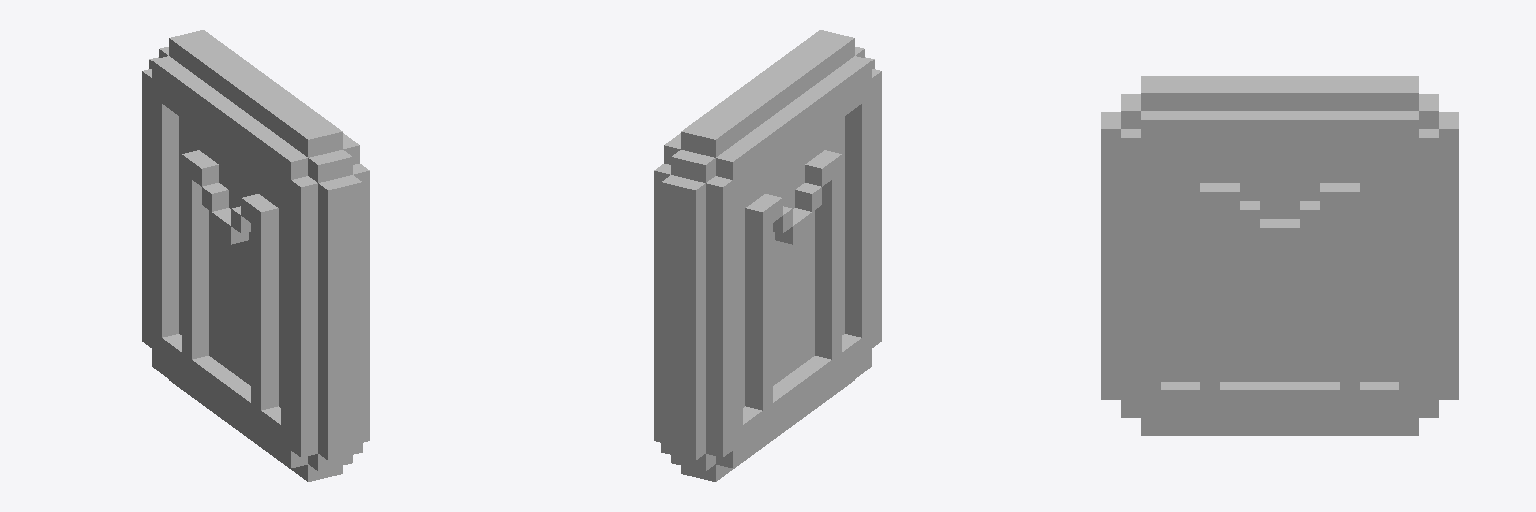
File: Coin 1.obj
3 views of the same model, side by side, from view 1: azimuth 30°, elevation 25°; view 2: azimuth 150°, elevation 25°; view 3: azimuth 270°, elevation 25° (orthographic).
Visible parts, largest first — view 1: object 1; view 2: object 1; view 3: object 1.
Part boxes in pixels (left/top/right/bottom): object 1: left=142, top=30, right=369, bottom=481; object 1: left=654, top=30, right=881, bottom=481; object 1: left=1101, top=76, right=1458, bottom=435.
Bounding box in the file's own units: 0.4 × 1.9 × 1.8.